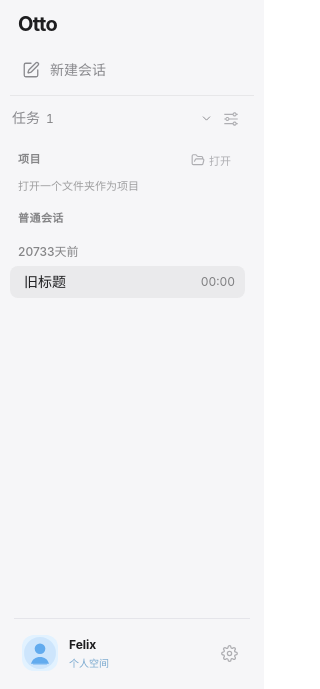
Test case: Sidebar：布局（工具区已迁右侧面板） › 没有退出能力时仍可打开完整账户菜单，但退出动作明确禁用
Expected: the text "Felix" is shown, [69, 636, 96, 652]
Click the button with aria-label "Felix，个人空间": (112, 653) [18, 631, 206, 675]
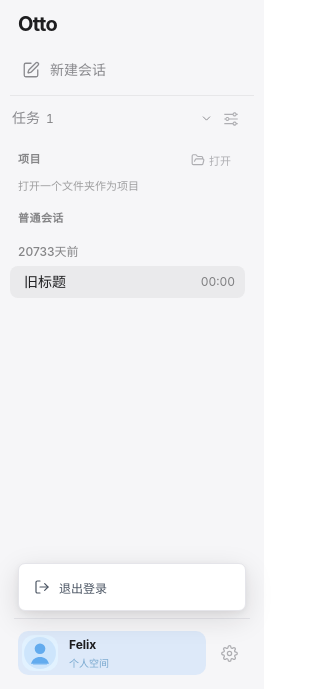
Expected: the menu item "退出登录" is disabled, [24, 569, 240, 605]
